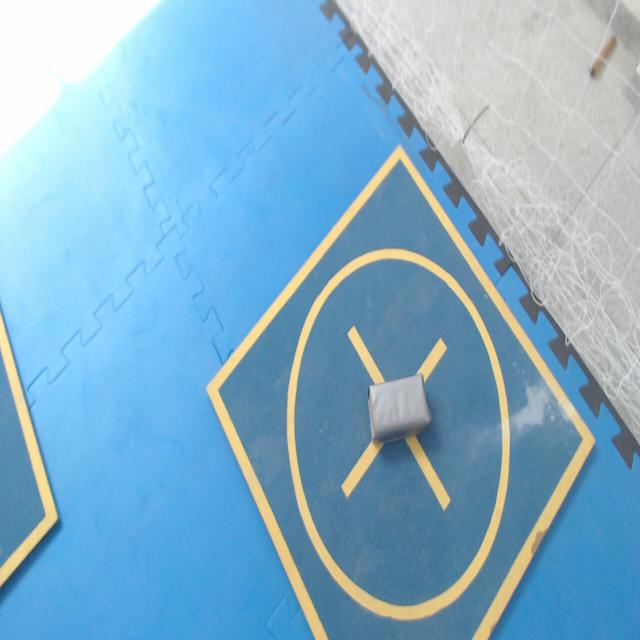lipo: (368, 373, 430, 443)
